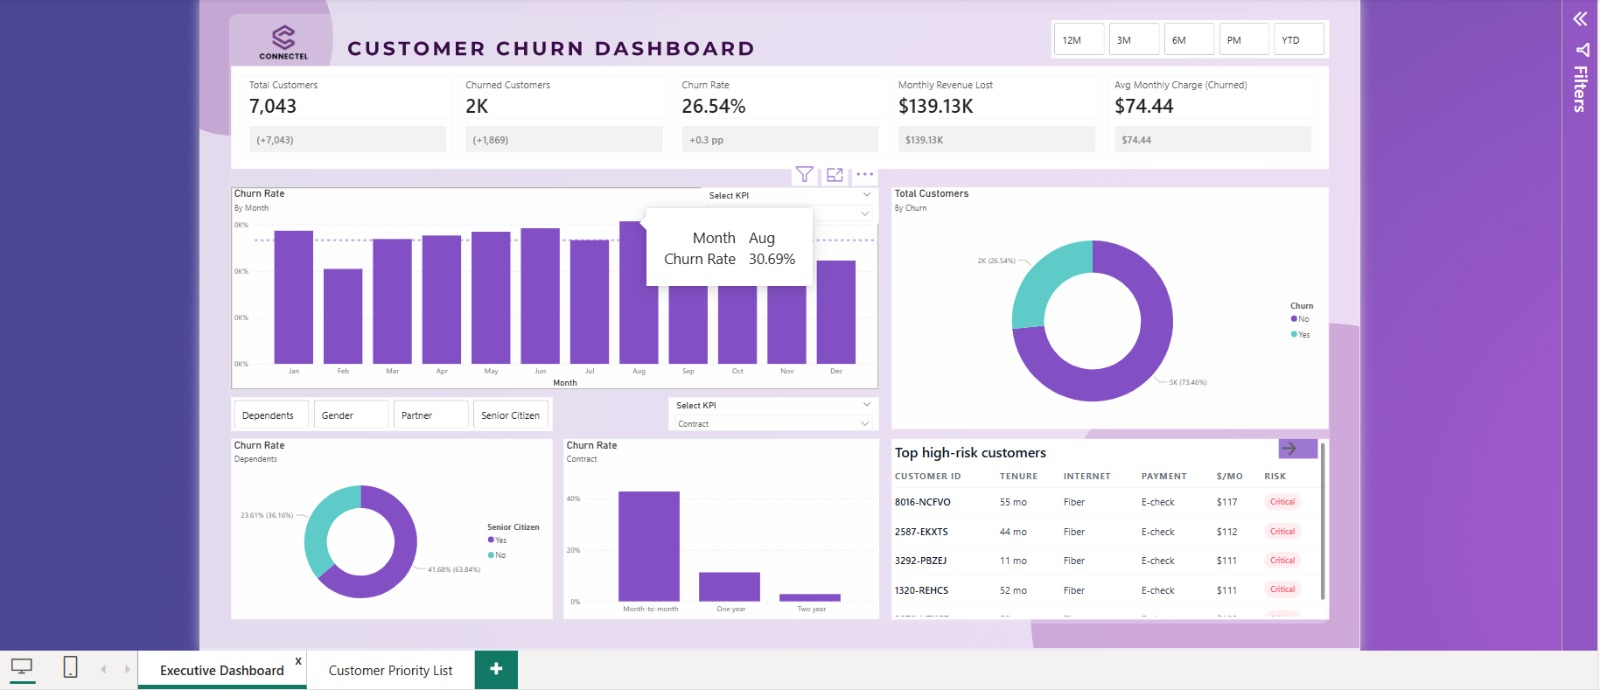

Layout of this report page (visuals, bound fields, positions):
{"tool":"powerbi","page":{"name":"Dashboard","canvas":[1920,1080],"ordinal":0},"visuals":[{"type":"cardVisual","fields":{"Data":["_Measures.Total Customers","_Measures.Churned Customers","_Measures.Churn Rate","_Measures.Monthly Revenue Lost","_Measures.Avg Monthly Charge (Churned)"]},"box":[52.2,112.2,1816.7,170],"z":0},{"type":"advancedSlicerVisual","fields":{"Values":["Time Period Table.Time Period"]},"box":[1409.7,36.2,459.7,63.3],"z":1000},{"type":"clusteredColumnChart","fields":{"Category":["Date.Month"],"Y":["_Measures.Churn Rate"]},"box":[52.2,312.2,1072.2,335.6],"z":2000},{"type":"donutChart","title":"Total Customers","fields":{"Category":["Telco_Churn.Churn"],"Y":["_Measures.Total Customers"]},"box":[1145.6,312.2,723.3,400],"z":3000},{"type":"donutChart","fields":{"Category":["Telco_Churn.Dependents","Telco_Churn.gender","Telco_Churn.Partner","Telco_Churn.SeniorCitizen"],"Y":["_Measures.Churn Rate"]},"box":[52.5,729.3,532,298.6],"z":4000},{"type":"slicer","fields":{"Values":["Dim_Parameter2.Dim_Parameter2"]},"box":[777.1,659.8,347.6,55.4],"z":5000},{"type":"clusteredColumnChart","fields":{"Category":["Telco_Churn.Contract"],"Y":["_Measures.Churn Rate"]},"box":[602.5,728.8,522.5,298.8],"z":6000},{"type":"STANDALONEhtmlContent443BE3AD55E043BF878BED274D3A6855","fields":{"content":["_Measures.Top Risk Customers HTML"]},"box":[1144.6,728.4,724,298.9],"z":7000},{"type":"slicer","fields":{"Values":["KPI.KPI"]},"box":[831.1,312.2,293.3,60],"z":8000},{"type":"advancedSlicerVisual","fields":{"Values":["Dim_Parameter.Dim_Parameter"]},"box":[52.5,660.5,532,56.1],"z":9000},{"type":"actionButton","box":[1786.1,729.3,65.1,32.6],"z":10000}]}

Visuals, with their boxes on the page's 1920x1080 design canvas (x1, y1, x2, y2). These are canvas units, not pixel positions in the 1600x690 screenshot, which may show the page scaled, cropped or inside an application window:
cardVisual - _Measures.Total Customers x _Measures.Churned Customers: region(52, 112, 1869, 282)
advancedSlicerVisual - Time Period Table.Time Period: region(1410, 36, 1869, 100)
clusteredColumnChart - Date.Month x _Measures.Churn Rate: region(52, 312, 1124, 648)
"Total Customers" donutChart: region(1146, 312, 1869, 712)
donutChart - Telco_Churn.Dependents x Telco_Churn.gender: region(52, 729, 584, 1028)
slicer - Dim_Parameter2.Dim_Parameter2: region(777, 660, 1125, 715)
clusteredColumnChart - Telco_Churn.Contract x _Measures.Churn Rate: region(602, 729, 1125, 1028)
STANDALONEhtmlContent443BE3AD55E043BF878BED274D3A6855 - _Measures.Top Risk Customers HTML: region(1145, 728, 1869, 1027)
slicer - KPI.KPI: region(831, 312, 1124, 372)
advancedSlicerVisual - Dim_Parameter.Dim_Parameter: region(52, 660, 584, 717)
actionButton: region(1786, 729, 1851, 762)
